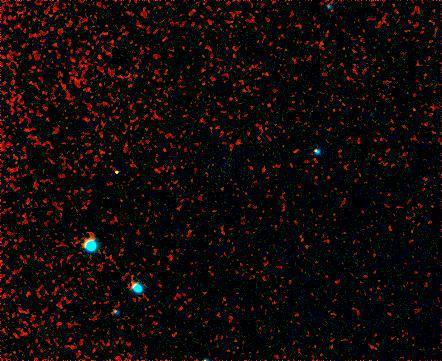star: (102, 157, 132, 187)
